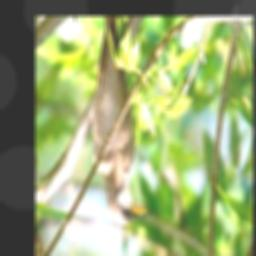Cuckoo: (92, 17, 151, 226)
